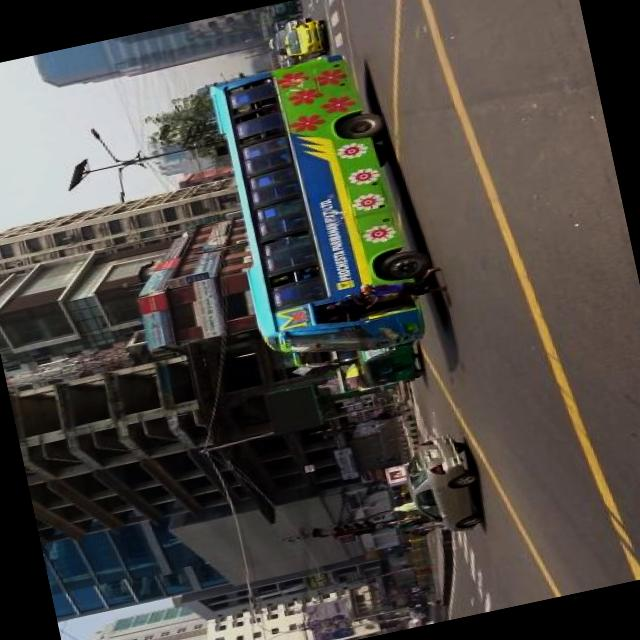bus: (196, 41, 434, 376)
car: (393, 428, 492, 540), (274, 17, 331, 64)
motorcycle: (354, 339, 425, 394), (265, 3, 300, 20), (271, 16, 299, 32)
truck: (266, 15, 316, 57)
